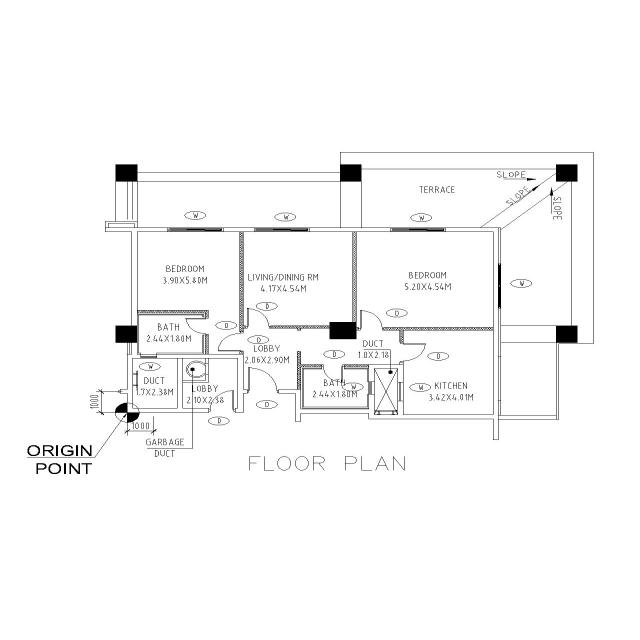Column: (326, 321, 360, 342), (112, 324, 142, 344), (114, 163, 140, 184), (554, 324, 580, 345), (338, 163, 364, 183), (555, 163, 579, 183)
Door: (246, 388, 282, 394), (202, 315, 210, 338), (207, 408, 237, 414), (358, 326, 386, 332), (237, 331, 245, 352), (245, 324, 271, 330), (321, 363, 346, 369), (398, 341, 404, 363)
Window: (388, 226, 448, 234), (167, 226, 225, 233), (253, 227, 311, 233), (497, 262, 502, 312), (396, 381, 406, 404), (364, 378, 376, 396), (138, 352, 158, 361)
